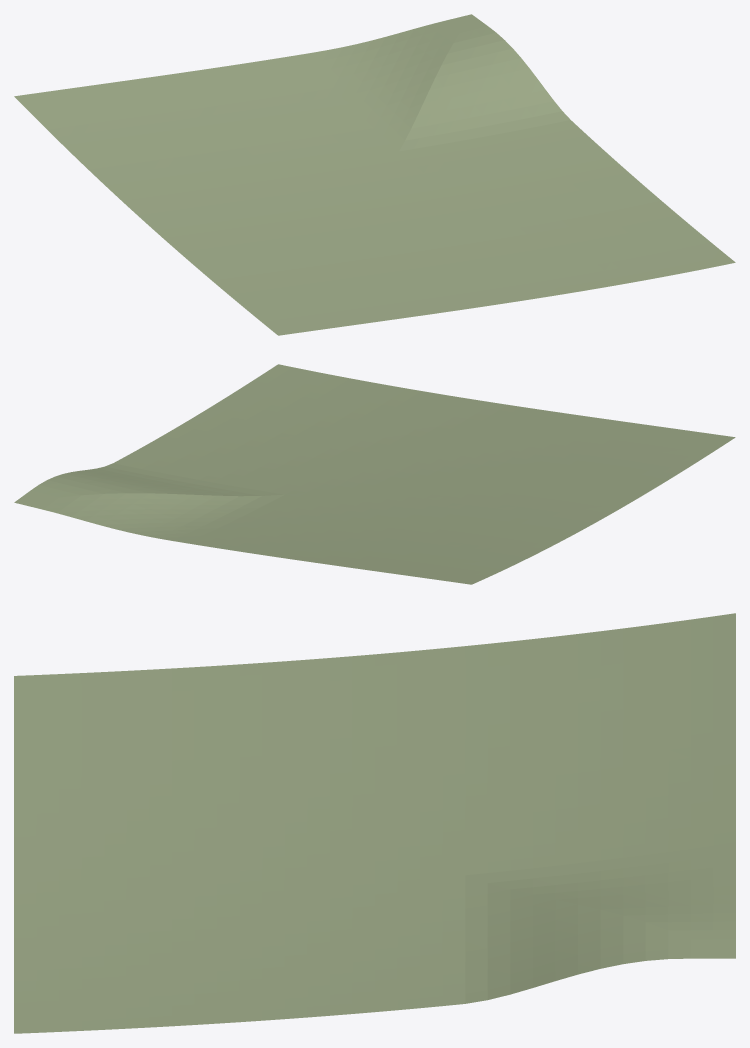
File: valley-12-3.glb
3 renders of one model, top to bottom at view 1: azimuth 30°, elevation 25°; view 2: azimuth 150°, elevation 25°; view 3: azimuth 270°, elevation 25°, orthographic. The views are drawn at different scales.
Visible parts, largest first — view 1: valley-12-3; view 2: valley-12-3; view 3: valley-12-3.
Boxes of the visible parts, bbox=[...] form: valley-12-3: bbox=[14, 14, 735, 335]; valley-12-3: bbox=[14, 364, 735, 584]; valley-12-3: bbox=[14, 613, 735, 1033].
Bounding box in the file's own units: 256 × 45.21 × 256.
